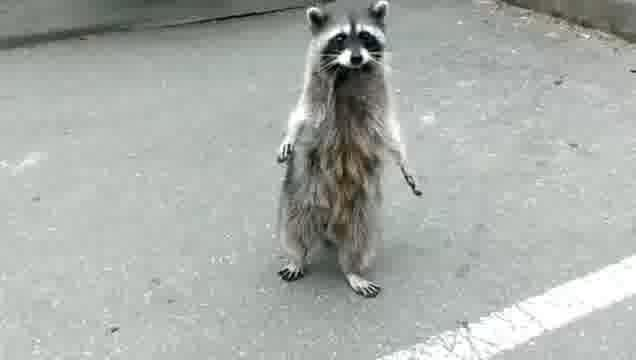raccoon: (272, 0, 425, 302)
